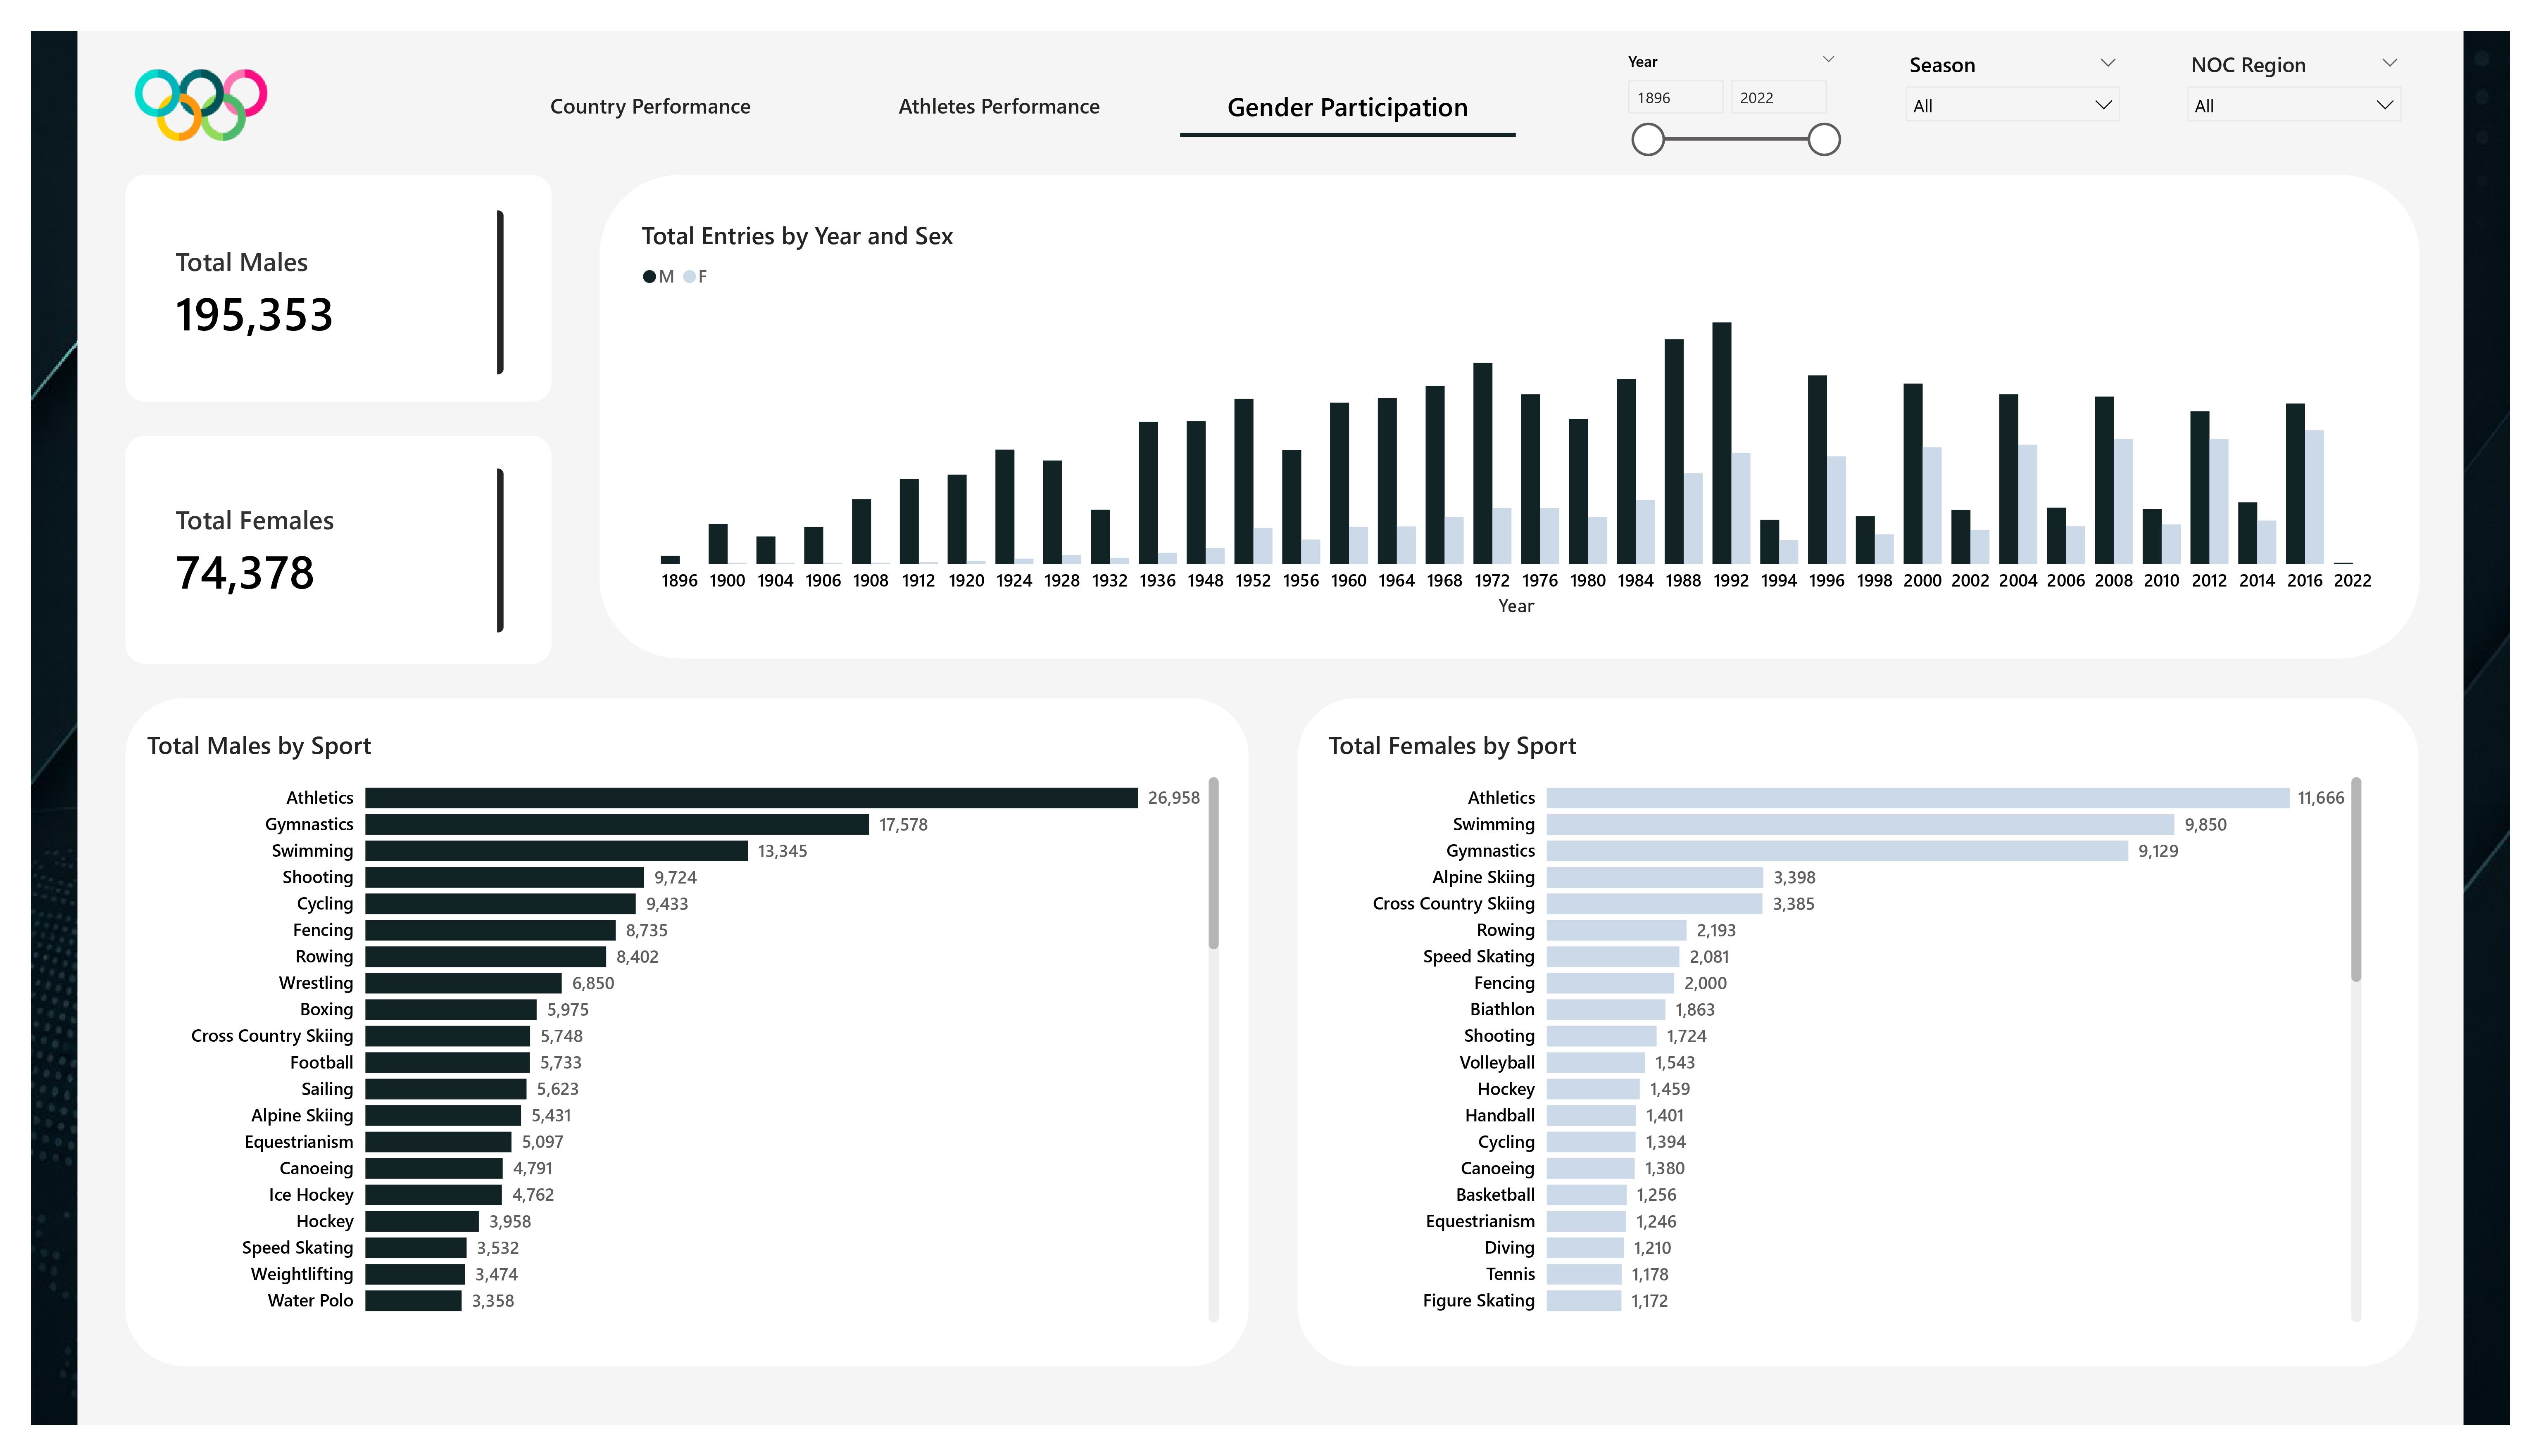

The dashboard page shown, as its layout file describes it:
{"tool":"powerbi","page":{"name":"Gender Participation","canvas":[1920,1080],"ordinal":3},"visuals":[{"type":"clusteredColumnChart","fields":{"Category":["FactAthleteRecord.Year"],"Y":["DaxMeasures.Total Entries"],"Series":["DimSex.Sex"]},"box":[467.5,145,1365,312.5],"z":0},{"type":"clusteredBarChart","fields":{"Category":["DimSport.Sport"],"Y":["DaxMeasures.Total Males"]},"box":[85,540,840,465],"z":1000},{"type":"clusteredBarChart","fields":{"Category":["DimSport.Sport","DimNocRegion.region"],"Y":["DaxMeasures.Total Females"]},"box":[1000,540,810,465],"z":2000},{"type":"slicer","fields":{"Values":["FactAthleteRecord.Year"]},"box":[1224,10,186,90],"z":3000},{"type":"slicer","fields":{"Values":["DimSeason.Season"]},"box":[1442,10,186,90],"z":4000},{"type":"slicer","fields":{"Values":["DimNocRegion.region"]},"box":[1660,10,186,90],"z":5000},{"type":"pageNavigator","box":[350,32,800,50],"z":6000},{"type":"cardVisual","fields":{"Data":["DaxMeasures.Total Males"]},"box":[83.3,121.7,300,161.7],"z":7000},{"type":"cardVisual","fields":{"Data":["DaxMeasures.Total Females"]},"box":[83.3,321.7,300,161.7],"z":8000}]}

Visuals, with their boxes on the page's 1920x1080 design canvas (x1, y1, x2, y2). These are canvas units, not pixel positions in the 2541x1456 screenshot, which may show the page scaled, cropped or inside an application window:
clusteredColumnChart - FactAthleteRecord.Year x DaxMeasures.Total Entries: pyautogui.locateOnScreen(468, 145, 1832, 458)
clusteredBarChart - DimSport.Sport x DaxMeasures.Total Males: pyautogui.locateOnScreen(85, 540, 925, 1005)
clusteredBarChart - DimSport.Sport x DimNocRegion.region: pyautogui.locateOnScreen(1000, 540, 1810, 1005)
slicer - FactAthleteRecord.Year: pyautogui.locateOnScreen(1224, 10, 1410, 100)
slicer - DimSeason.Season: pyautogui.locateOnScreen(1442, 10, 1628, 100)
slicer - DimNocRegion.region: pyautogui.locateOnScreen(1660, 10, 1846, 100)
pageNavigator: pyautogui.locateOnScreen(350, 32, 1150, 82)
cardVisual - DaxMeasures.Total Males: pyautogui.locateOnScreen(83, 122, 383, 283)
cardVisual - DaxMeasures.Total Females: pyautogui.locateOnScreen(83, 322, 383, 483)
